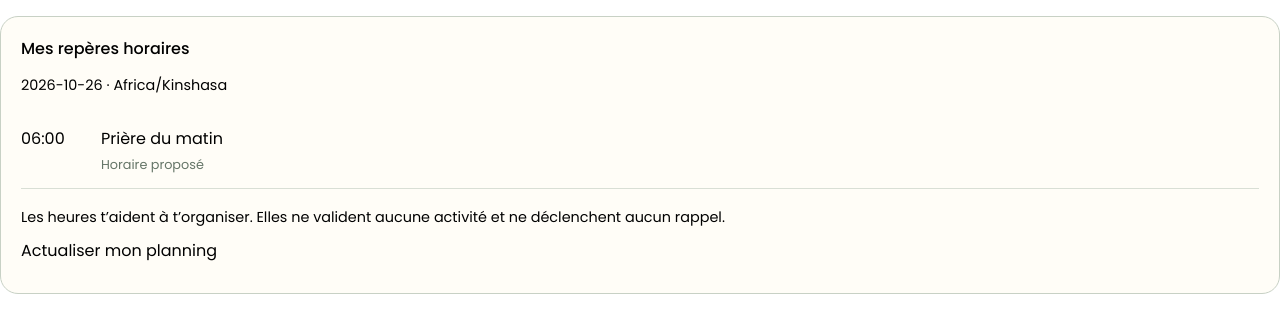
Test case: le bouton d’actualisation relit le planning modifié sur un autre écran
Expected: the text "06:00" is shown, [21, 127, 65, 150]
Click the button "Actualiser mon planning".
click(119, 251)  # box [21, 229, 217, 273]
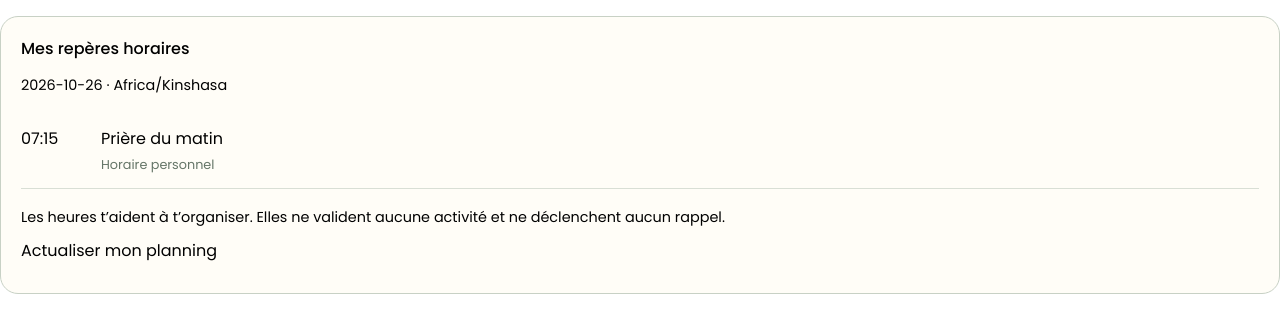
Expected: the text "07:15" is shown, [21, 127, 58, 150]
Expected: the text "06:00" is gone
